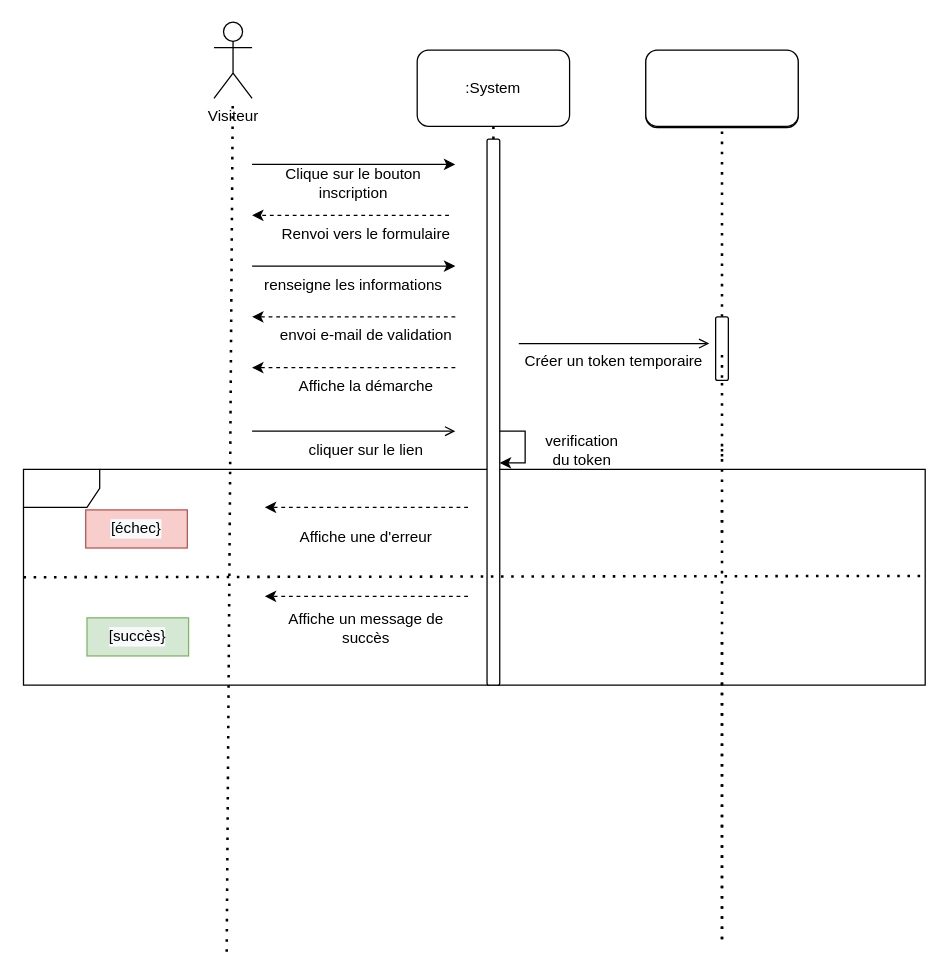
Some shapes in this 949 by 977 pixel diagram are drawn without their labels. The box of each missing label's shape, as (x1, y1, x2, y2) in pixels:
:User: (645, 49, 798, 126)
Alt: (22, 468, 925, 685)
